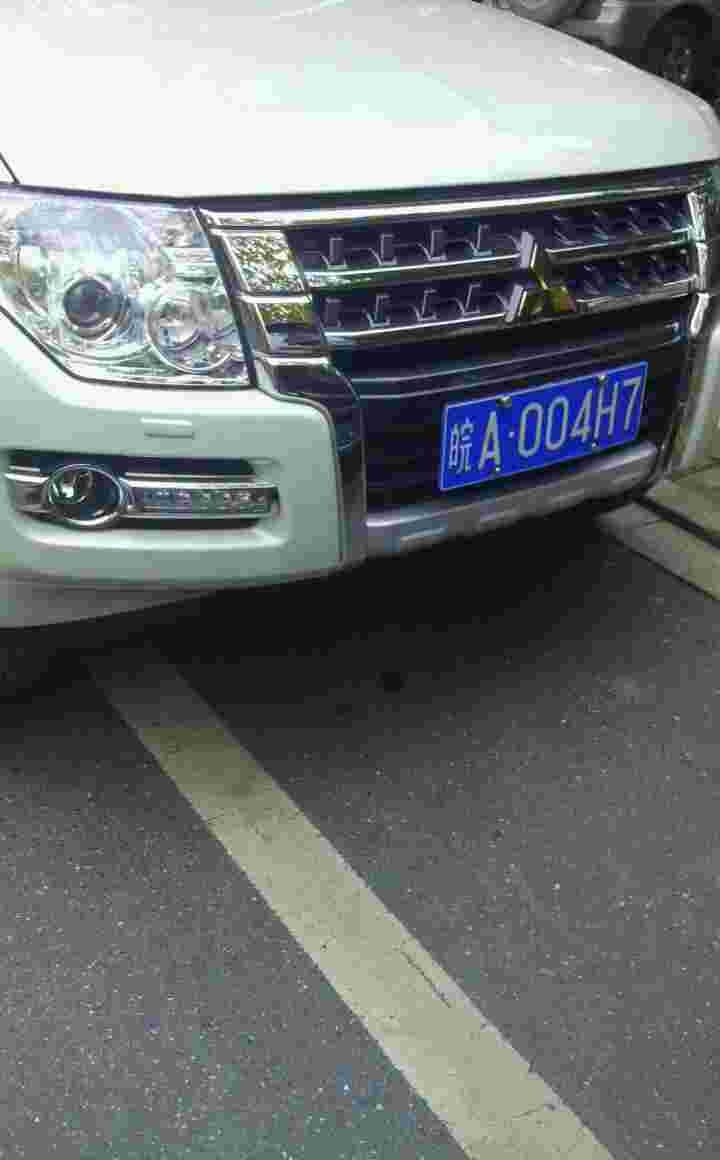license_plate: (440, 359, 648, 499)
